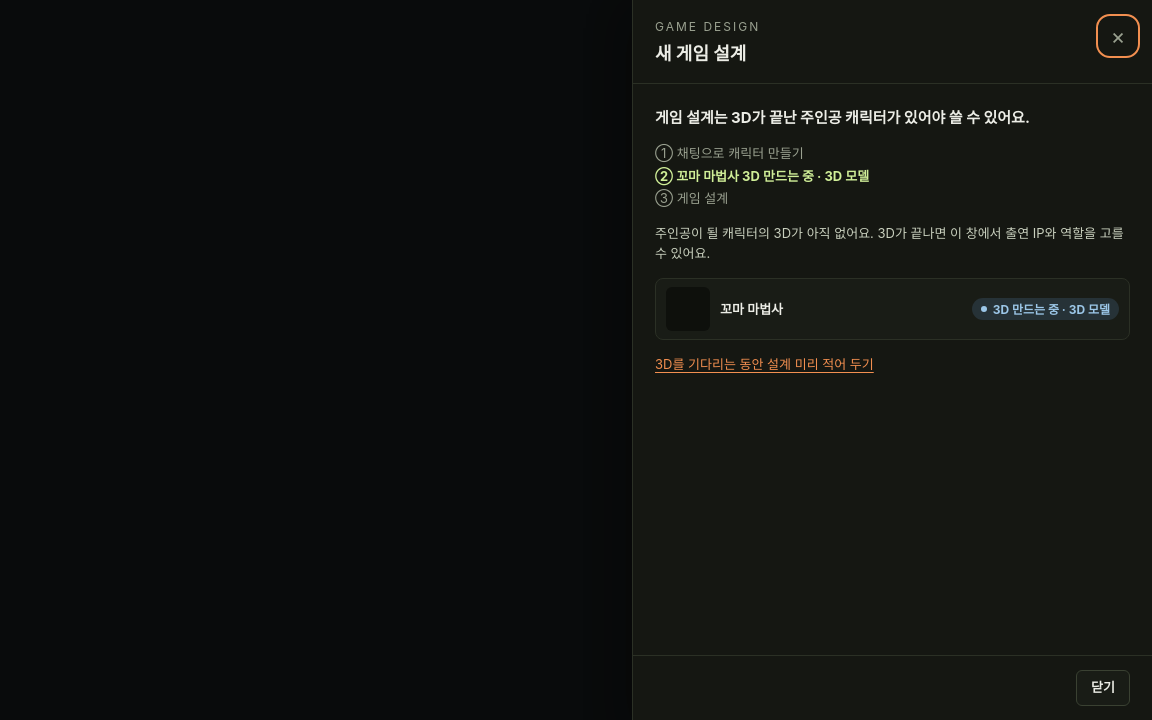
게임 설계 without a hero in 3D says what is missing and offers the way there, not a form (R20-14) › the form opens by itself once a hero's 3D is in, and on request before that (what is typed is kept for the tab)
Click the button "3D를 기다리는 동안 설계 미리 적어 두기".
click(764, 364)  # box [655,354,874,375]
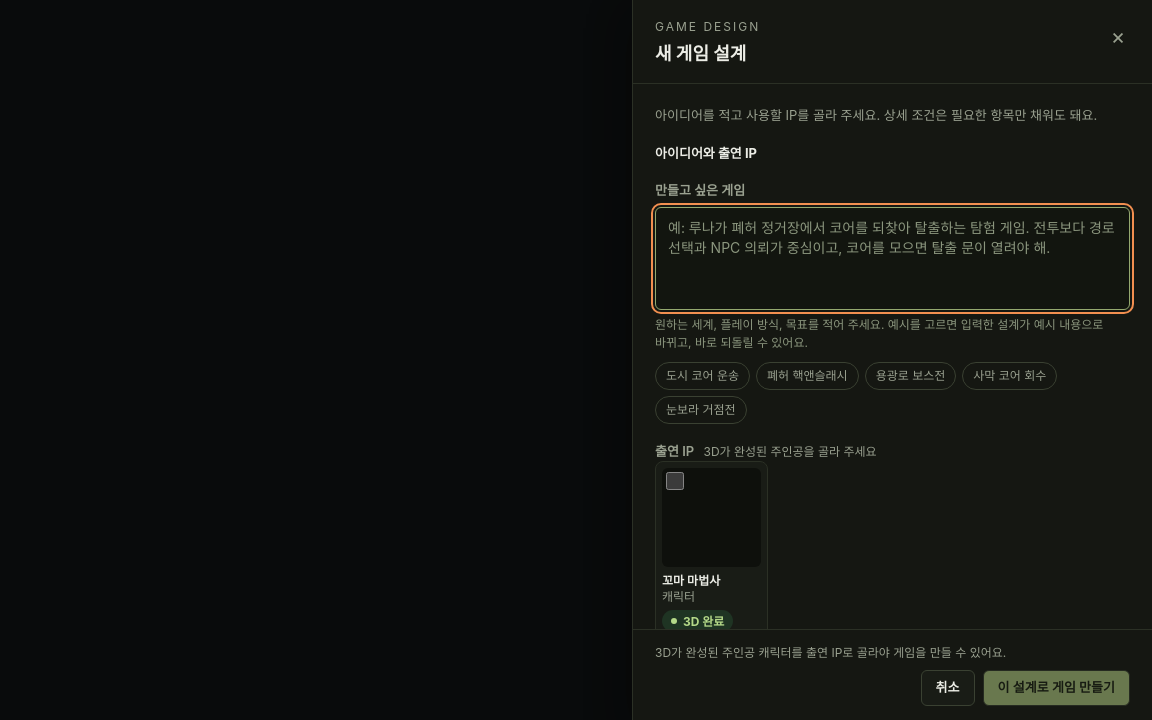
Now the form with id "game-design-form" is shown, box [633,84,1151,629]
Now the message with id "design-submit-hint" shows "3D가 완성된 주인공", box [655,645,1006,660]
Now the element with class "design-blocked" is gone
